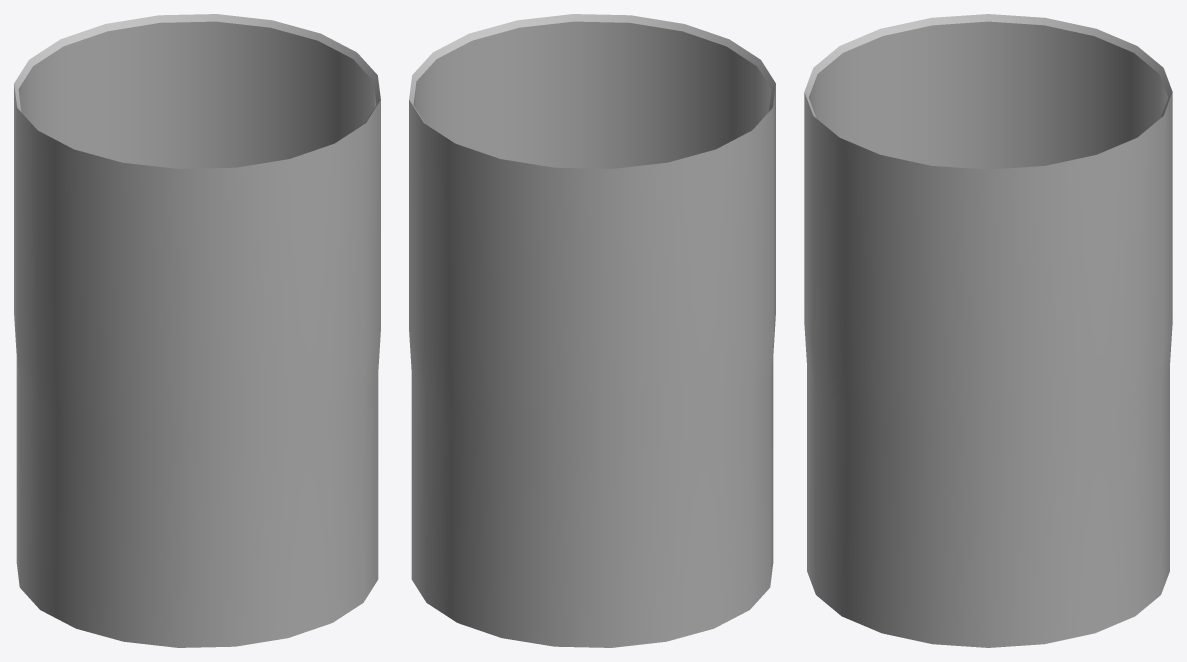
File: glass.fbx
3 renders of one model, left to right at view 1: azimuth 30°, elevation 25°; view 2: azimuth 150°, elevation 25°; view 3: azimuth 270°, elevation 25°, orthographic.
Parts seen in each view (by area): view 1: Glass:VASO; view 2: Glass:VASO; view 3: Glass:VASO.
Boxes of the visible parts, <box> form: Glass:VASO: <box>14,14,380,647</box>; Glass:VASO: <box>409,14,775,647</box>; Glass:VASO: <box>804,14,1172,647</box>.
Size of the model in its own units: 10.77 by 15.47 by 10.77.
